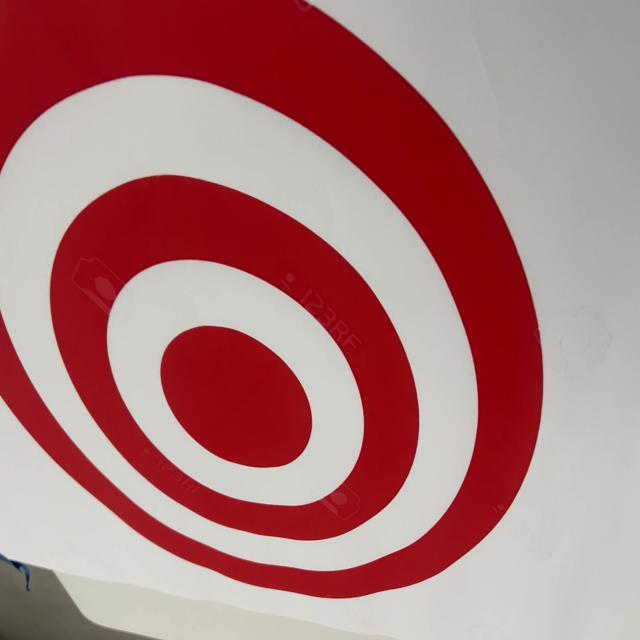target_red: (0, 0, 552, 618)
